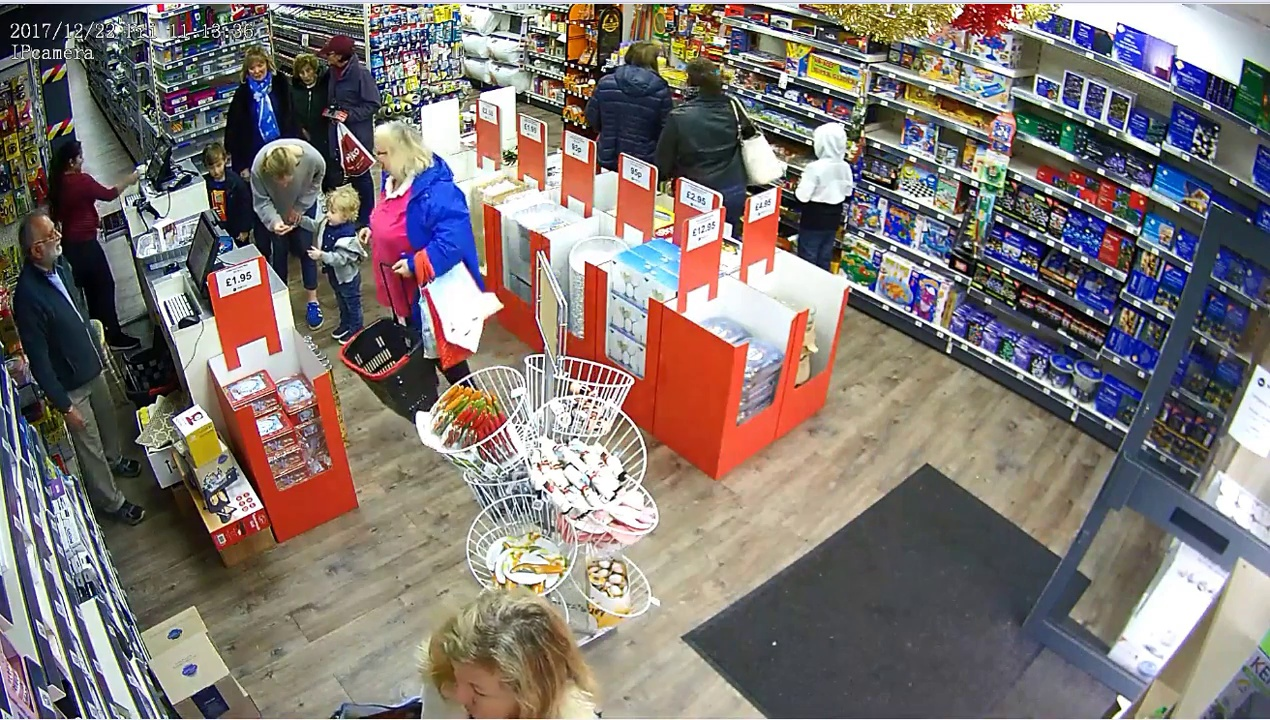face: (447, 659, 518, 720), (32, 222, 62, 262), (324, 198, 346, 229), (247, 54, 270, 83), (292, 60, 317, 86), (321, 45, 344, 71), (206, 153, 226, 180)
